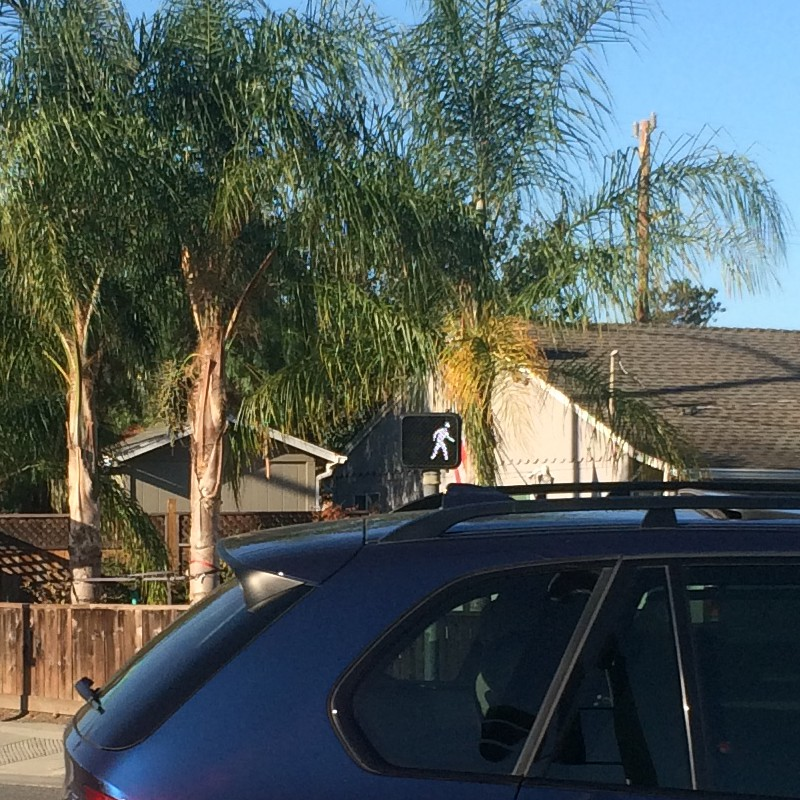go: (395, 411, 465, 471)
